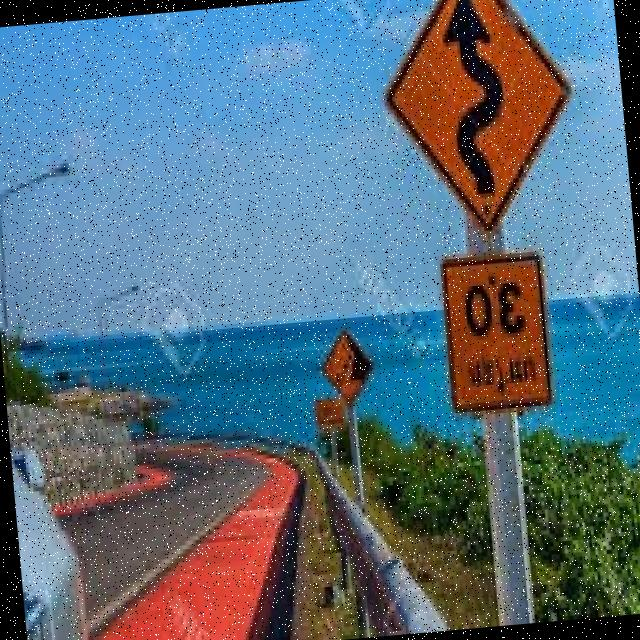left_sharp_curve: (355, 0, 596, 239)
